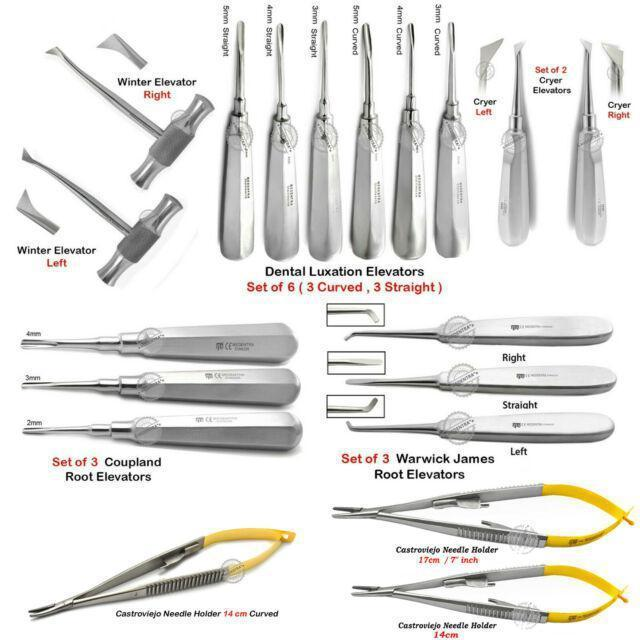Castroviejo: (24, 526, 299, 623), (331, 475, 639, 552), (350, 562, 634, 627)
